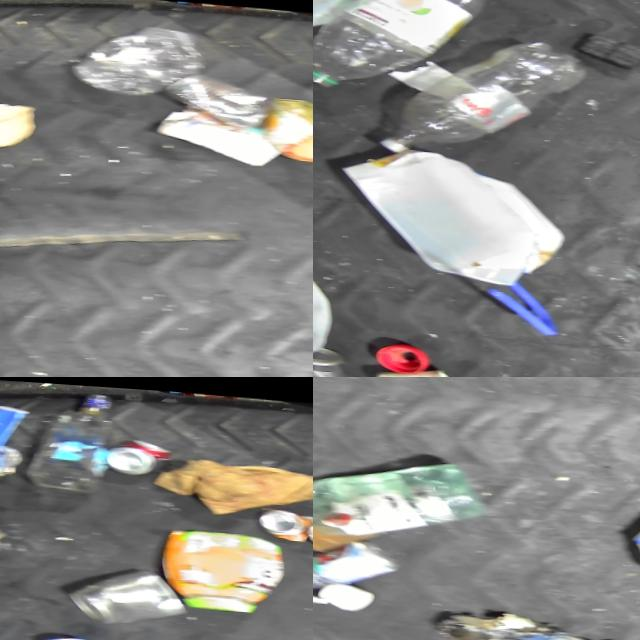can: (163, 66, 270, 123), (259, 88, 313, 161), (104, 433, 176, 475), (255, 499, 313, 537), (313, 339, 345, 377)
milk_jug: (330, 141, 564, 289)
non_white_jug: (152, 521, 288, 611)
plastic_bottle: (361, 20, 591, 163), (313, 0, 492, 97), (64, 15, 207, 99), (17, 384, 122, 493), (313, 529, 393, 596)
